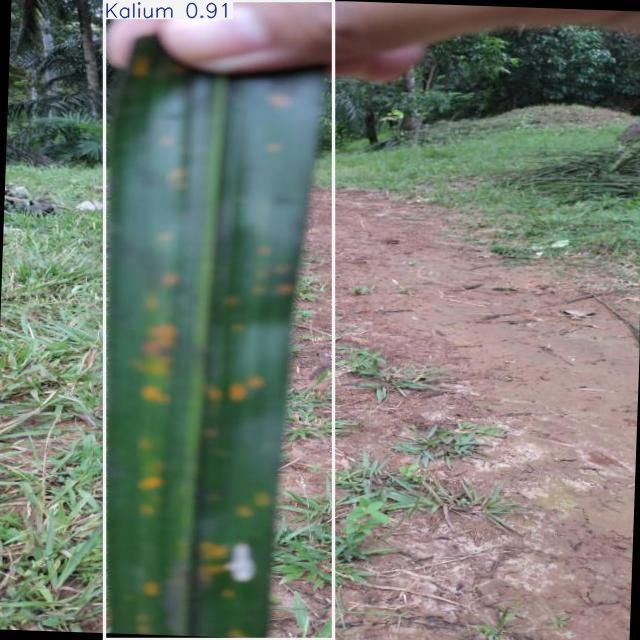Kalium: (105, 0, 333, 639)
